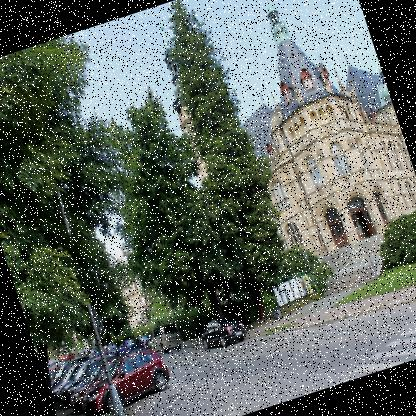Car: (40, 321, 199, 415), (194, 308, 249, 354)
